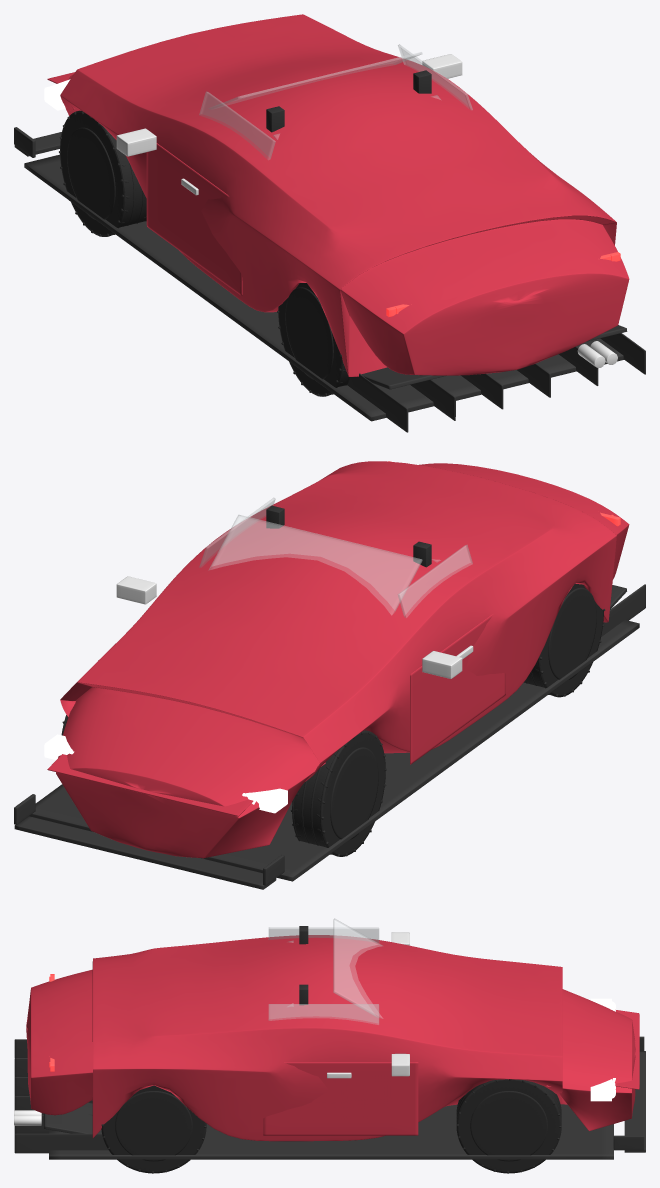
The model's file is vehicle.opt.glb.
3 renders of one model, top to bottom at view 1: azimuth 30°, elevation 25°; view 2: azimuth 150°, elevation 25°; view 3: azimuth 270°, elevation 25°, orthographic. The views are drawn at different scales.
Visible parts, largest first — view 1: BODY_MainShell, UNDERBODY_FlatFloor, WHEEL_FL_Tire, BODY_Door_FL, WHEEL_RL_Tire, GLASS_Greenhouse, JEWELRY_Hardware, AERO_FrontSplitter, JEWELRY_MX5ND_RollHoops, JEWELRY_MX5ND_DualExhaust; view 2: BODY_MainShell, UNDERBODY_FlatFloor, GLASS_Greenhouse, WHEEL_FL_Tire, BODY_Door_FL, WHEEL_RL_Tire, AERO_FrontSplitter, JEWELRY_Hardware, BODY_Hood, LIGHTING_Headlamps, JEWELRY_MX5ND_RollHoops; view 3: BODY_MainShell, UNDERBODY_FlatFloor, BODY_Door_FR, WHEEL_FR_Tire, WHEEL_RR_Tire, GLASS_Greenhouse, AERO_FrontSplitter, JEWELRY_Hardware, LIGHTING_Headlamps, BODY_Hood, JEWELRY_MX5ND_DualExhaust, JEWELRY_MX5ND_RollHoops.
Boxes of the visible parts, x1,y1,x2,y2 form: BODY_MainShell: (60, 14, 629, 376); UNDERBODY_FlatFloor: (24, 154, 645, 432); WHEEL_FL_Tire: (59, 110, 146, 236); BODY_Door_FL: (146, 143, 242, 296); WHEEL_RL_Tire: (277, 283, 350, 396); GLASS_Greenhouse: (199, 44, 472, 159); JEWELRY_Hardware: (116, 54, 462, 195); AERO_FrontSplitter: (14, 127, 61, 157); JEWELRY_MX5ND_RollHoops: (266, 70, 431, 132); JEWELRY_MX5ND_DualExhaust: (577, 341, 617, 367); BODY_MainShell: (56, 461, 629, 858); UNDERBODY_FlatFloor: (29, 584, 645, 881); GLASS_Greenhouse: (199, 497, 472, 617); WHEEL_FL_Tire: (290, 730, 386, 856); BODY_Door_FL: (410, 614, 505, 764); WHEEL_RL_Tire: (524, 583, 605, 697); AERO_FrontSplitter: (14, 794, 284, 889); JEWELRY_Hardware: (116, 576, 473, 678); BODY_Hood: (47, 754, 253, 816); LIGHTING_Headlamps: (44, 734, 287, 813); JEWELRY_MX5ND_RollHoops: (266, 505, 431, 567); BODY_MainShell: (26, 935, 636, 1141); UNDERBODY_FlatFloor: (14, 1039, 613, 1159); BODY_Door_FR: (263, 1062, 418, 1135); WHEEL_FR_Tire: (456, 1079, 561, 1173); WHEEL_RR_Tire: (101, 1085, 206, 1173); GLASS_Greenhouse: (268, 918, 382, 1024); AERO_FrontSplitter: (613, 1036, 645, 1152); JEWELRY_Hardware: (327, 932, 409, 1078); LIGHTING_Headlamps: (590, 998, 615, 1101); BODY_Hood: (615, 1010, 639, 1089); JEWELRY_MX5ND_DualExhaust: (14, 1110, 41, 1125); JEWELRY_MX5ND_RollHoops: (299, 926, 308, 1005).
Size of what is drawn, in the model's own units: 2.05 by 1.2 by 4.11.
